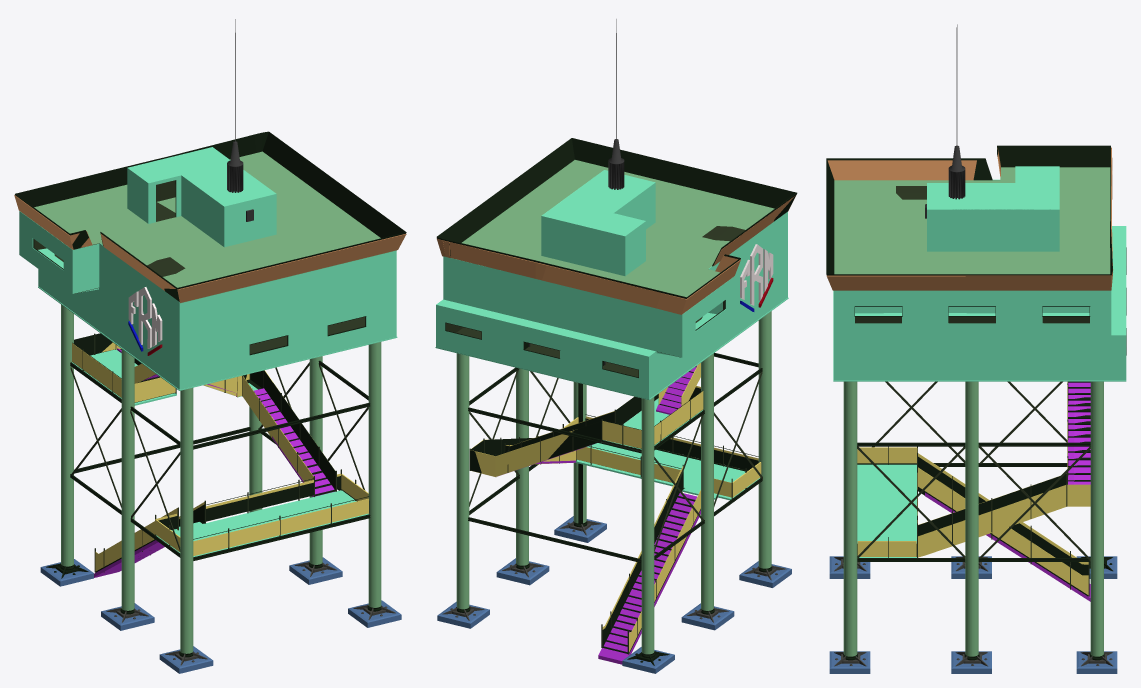
Rendered from tour_guet_V2.fbx.
3 views of the same model, side by side, from view 1: azimuth 30°, elevation 25°; view 2: azimuth 150°, elevation 25°; view 3: azimuth 270°, elevation 25° (orthographic). The views are drawn at different scales.
Visible parts, largest first — view 1: UTM_MursTour, UTM_Top_Ground, UTM_Murs_top, protections_toit_LOD0, UTM_top_protections, UTM_barrières01, UTM_Poteau01.005, UTM_Poteau01.002, UTM_barrières_esacliers02, UTM_Poteau01.004, UTM_Poteau01.003, UTM_etage01 (+21 smaller); view 2: UTM_MursTour, UTM_Top_Ground, UTM_Murs_top, protections_toit_LOD0, UTM_top_protections, UTM_barrières_esacliers02, UTM_Poteau01.003, UTM_Poteau01, UTM_Poteau01.005, UTM_Poteau01.004, UTM_escaliers, UTM_barrières01 (+24 smaller); view 3: UTM_MursTour, UTM_Top_Ground, UTM_Murs_top, UTM_top_protections, protections_toit_LOD0, UTM_etage01, UTM_Poteau01.002, UTM_Poteau01.001, UTM_Poteau01, UTM_barrières_esacliers02, UTM_barrières_esacliers01, UTM_barrières01 (+18 smaller).
Boxes of the visible parts, x1=… form: UTM_MursTour: x1=19, y1=211, x2=396, y2=389; UTM_Top_Ground: x1=34, y1=151, x2=396, y2=303; UTM_Murs_top: x1=127, y1=147, x2=276, y2=247; protections_toit_LOD0: x1=15, y1=131, x2=406, y2=301; UTM_top_protections: x1=14, y1=195, x2=406, y2=302; UTM_barrières01: x1=155, y1=473, x2=368, y2=556; UTM_Poteau01.005: x1=180, y1=388, x2=193, y2=653; UTM_Poteau01.002: x1=368, y1=342, x2=381, y2=607; UTM_barrières_esacliers02: x1=72, y1=342, x2=313, y2=482; UTM_Poteau01.004: x1=121, y1=349, x2=134, y2=610; UTM_Poteau01.003: x1=61, y1=304, x2=73, y2=566; UTM_etage01: x1=156, y1=490, x2=368, y2=556; UTM_MursTour: x1=436, y1=211, x2=787, y2=399; UTM_Top_Ground: x1=462, y1=160, x2=774, y2=297; UTM_Murs_top: x1=541, y1=170, x2=655, y2=275; protections_toit_LOD0: x1=436, y1=138, x2=797, y2=298; UTM_top_protections: x1=436, y1=195, x2=795, y2=314; UTM_barrières_esacliers02: x1=471, y1=386, x2=703, y2=476; UTM_Poteau01.003: x1=641, y1=397, x2=654, y2=654; UTM_Poteau01: x1=456, y1=353, x2=469, y2=609; UTM_Poteau01.005: x1=758, y1=311, x2=771, y2=568; UTM_Poteau01.004: x1=701, y1=353, x2=713, y2=610; UTM_escaliers: x1=598, y1=493, x2=700, y2=664; UTM_barrières01: x1=564, y1=416, x2=761, y2=497; UTM_MursTour: x1=833, y1=179, x2=1126, y2=380; UTM_Top_Ground: x1=834, y1=167, x2=1110, y2=274; UTM_Murs_top: x1=927, y1=166, x2=1059, y2=251; UTM_top_protections: x1=826, y1=147, x2=1113, y2=290; protections_toit_LOD0: x1=826, y1=145, x2=1112, y2=275; UTM_etage01: x1=857, y1=464, x2=917, y2=557; UTM_Poteau01.002: x1=843, y1=381, x2=857, y2=656; UTM_Poteau01.001: x1=965, y1=381, x2=978, y2=656; UTM_Poteau01: x1=1090, y1=381, x2=1103, y2=656; UTM_barrières_esacliers02: x1=918, y1=382, x2=1090, y2=557; UTM_barrières_esacliers01: x1=918, y1=453, x2=1088, y2=595; UTM_barrières01: x1=857, y1=447, x2=917, y2=556.
Bounding box in the file's own units: 1549 × 3458 × 1527.
